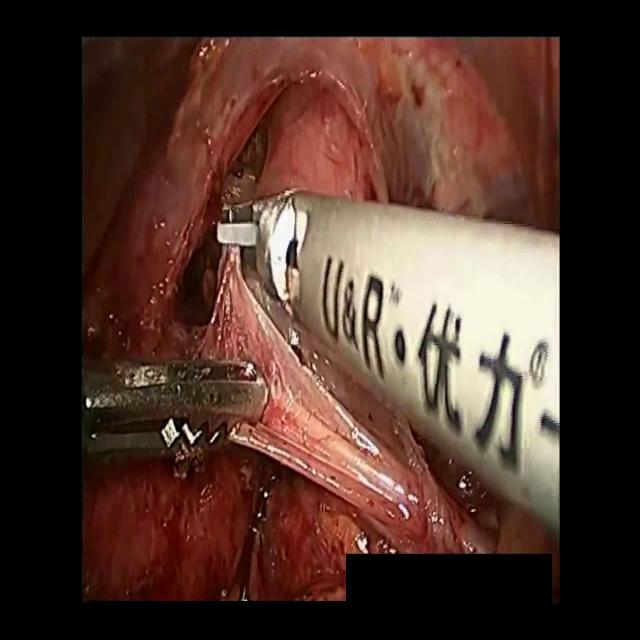surgical-area: (78, 38, 561, 607)
surgical-tool: (214, 187, 561, 537), (80, 357, 270, 481)
